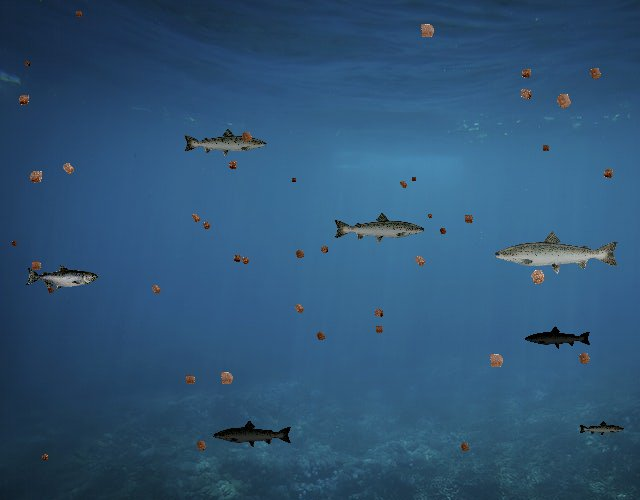Fish: (492, 229, 621, 275), (332, 212, 426, 245), (182, 127, 268, 158), (213, 419, 294, 448), (26, 264, 98, 291), (525, 325, 593, 350), (579, 421, 626, 437)
Pellet: (56, 156, 81, 181), (455, 438, 474, 457), (38, 450, 52, 464), (21, 57, 33, 69)
